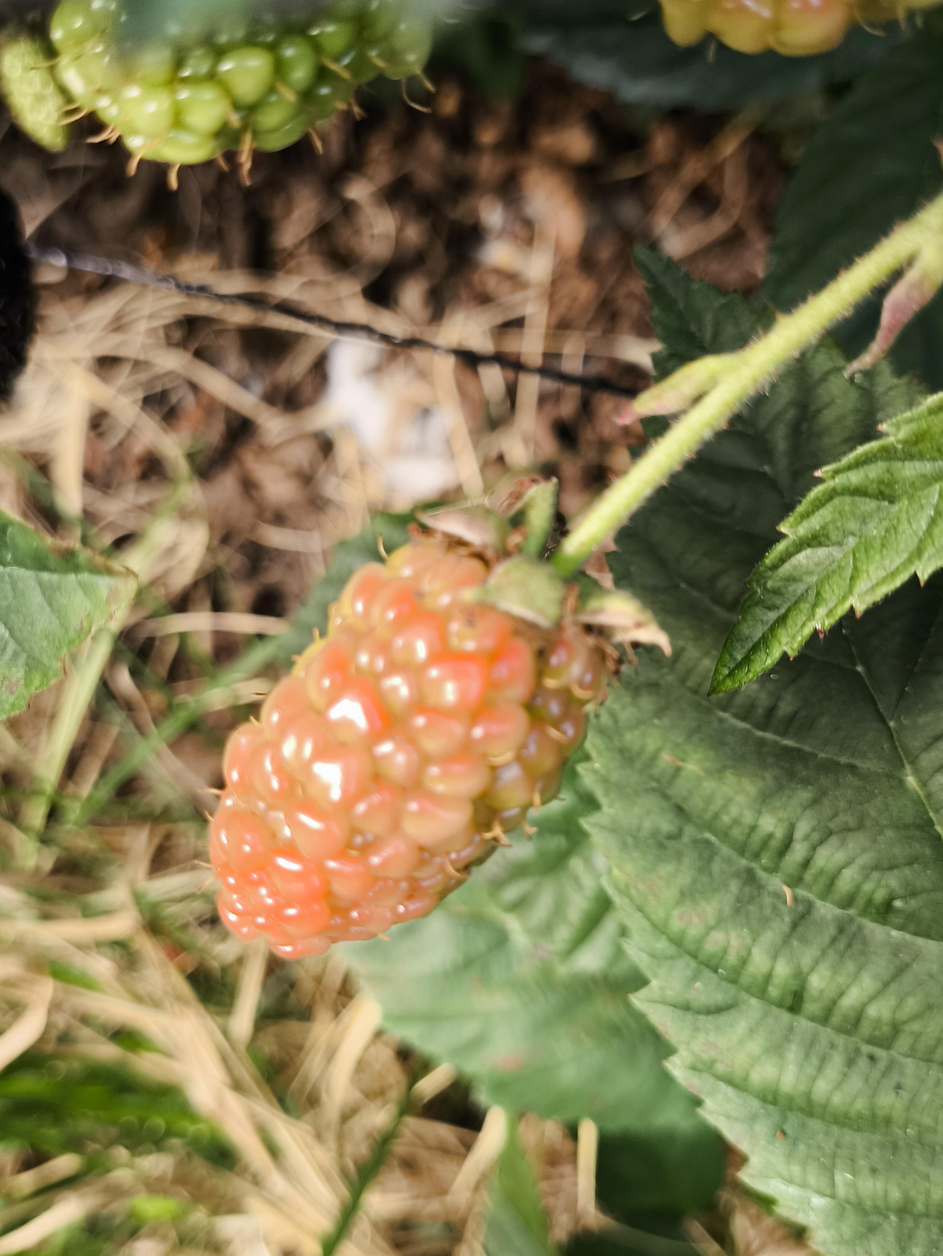naranja: (209, 519, 615, 957)
verde: (54, 0, 430, 178)
